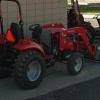Tractor: (8, 5, 97, 87)
